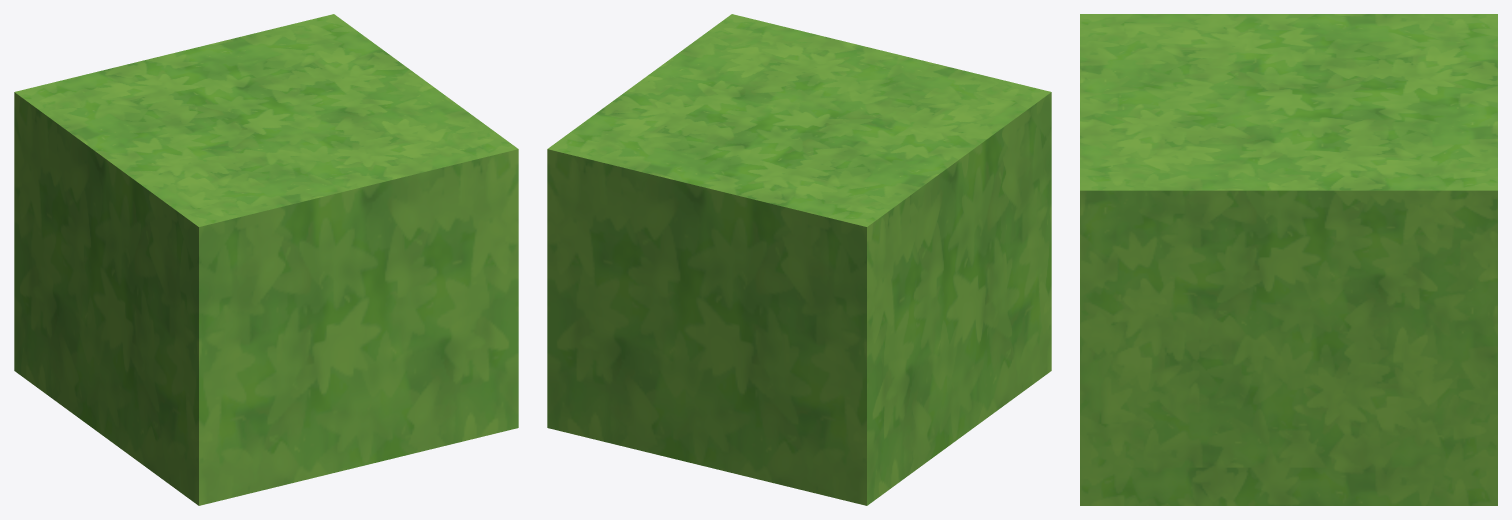
The model's file is FullTile_Center_1x1x2.fbx.
3 renders of one model, left to right at view 1: azimuth 30°, elevation 25°; view 2: azimuth 150°, elevation 25°; view 3: azimuth 270°, elevation 25°, orthographic. The views are drawn at different scales.
Parts seen in each view (by area): view 1: FullTile_Center_1x1x2; view 2: FullTile_Center_1x1x2; view 3: FullTile_Center_1x1x2.
Part boxes in pixels (box(x1,y1,x2,y2)): FullTile_Center_1x1x2: box(14, 14, 518, 505); FullTile_Center_1x1x2: box(547, 14, 1051, 505); FullTile_Center_1x1x2: box(1080, 14, 1497, 505).
Bounding box in the file's own units: 3 × 3 × 2.5.
